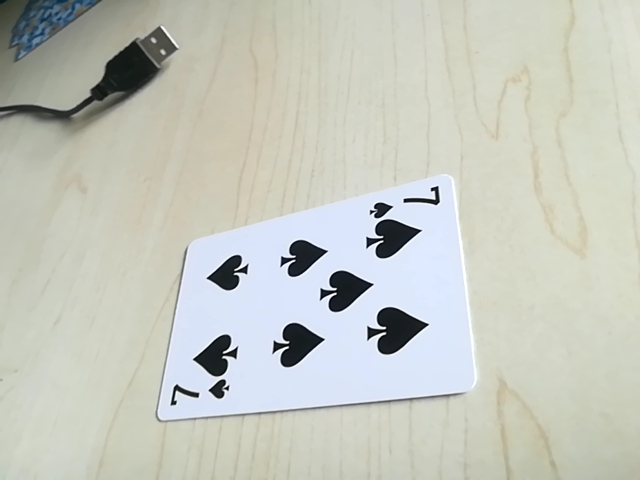ht 7: (158, 377, 232, 414), (366, 186, 448, 218)
